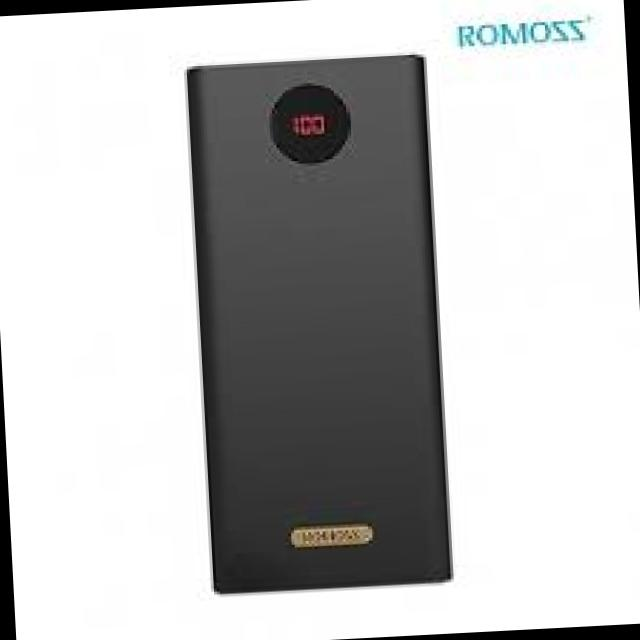portable-charger: (187, 55, 456, 598)
